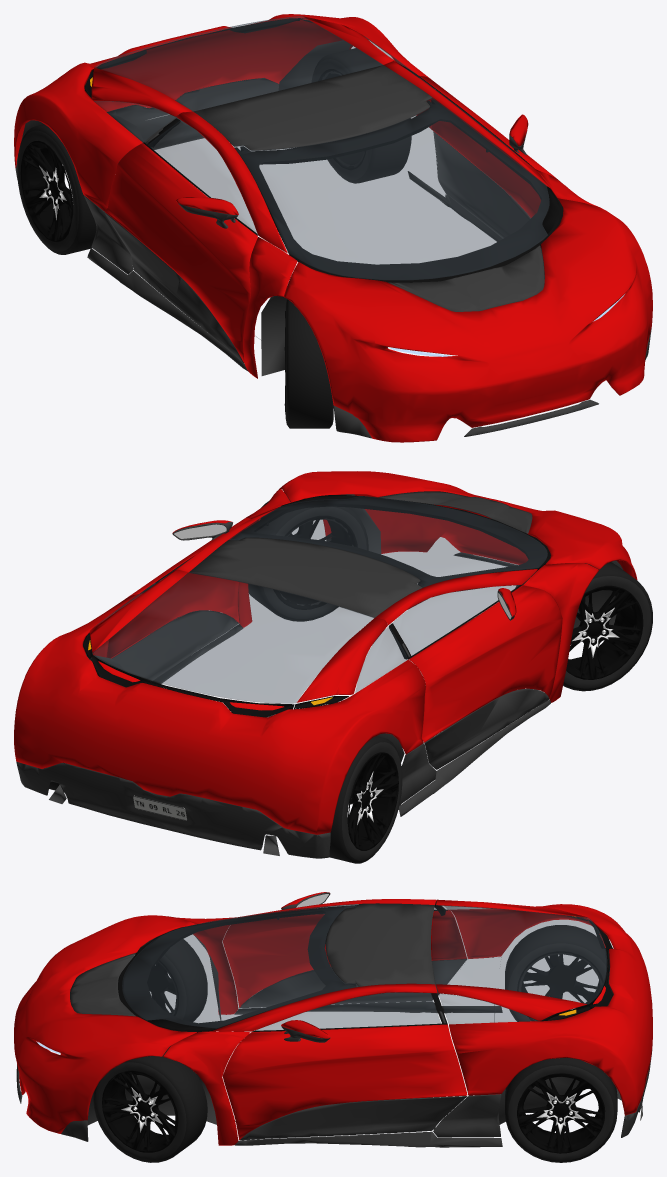
Rendered from car_lod1.glb.
The picture shows the model from 3 angles, top to bottom: view 1: azimuth 30°, elevation 25°; view 2: azimuth 150°, elevation 25°; view 3: azimuth 270°, elevation 25°; orthographic projection. The views are drawn at different scales.
Parts seen in each view (by area): view 1: BodyHood, BodyWindshield, BodyRearPanelsColor1, BodyRearwindow, BodyDoorRColor1, BodyRoofPanel, BodyWindshieldGasket, BodyPanelsColor2, BodyPillars, BodyHoodTopgrill, WheelFrontR, BodyDoorLColor2 (+10 smaller); view 2: BodyRearPanelsColor1, BodyRearwindow, BodyWindshield, BodyPanelsColor2, BodyDoorRColor1, BodyHood, BodyRoofPanel, BodyPillars, BodyWindshieldGasket, WheelFrontRRim, BodyDoorLColor1, BodyDoorLColor2 (+12 smaller); view 3: BodyRearPanelsColor1, BodyWindshield, BodyDoorLColor1, BodyHood, BodyRearwindow, BodyPillars, BodyRoofPanel, BodyPanelsColor2, BodyDoorRColor1, BodyWindshieldGasket, BodyDoorLColor2, WheelFrontL (+14 smaller).
Boxes of the visible parts, x1,y1,x2,y2 form: BodyHood: (283,198,652,442); BodyWindshield: (234,98,549,279); BodyRearPanelsColor1: (14,14,434,210); BodyRearwindow: (94,16,382,111); BodyDoorRColor1: (104,143,257,363); BodyRoofPanel: (193,65,432,150); BodyWindshieldGasket: (234,99,563,282); BodyPanelsColor2: (15,78,651,438); BodyPillars: (177,61,600,378); BodyHoodTopgrill: (388,245,544,311); WheelFrontR: (285,299,333,428); BodyDoorLColor2: (434,132,530,238); BodyRearPanelsColor1: (14,569,425,834); BodyRearwindow: (92,572,373,703); BodyWindshield: (229,496,547,587); BodyPanelsColor2: (16,538,550,858); BodyDoorRColor1: (409,585,562,742); BodyHood: (278,471,637,579); BodyRoofPanel: (189,537,422,617); BodyPillars: (173,489,598,702); BodyWindshieldGasket: (230,496,550,587); WheelFrontRRim: (566,585,643,679); BodyDoorLColor1: (106,517,250,658); BodyDoorLColor2: (112,610,238,680); BodyRearPanelsColor1: (436,899,652,1115); BodyWindshield: (122,904,357,1028); BodyDoorLColor1: (222,1024,467,1139); BodyHood: (14,915,196,1133); BodyRearwindow: (431,905,607,1004); BodyPillars: (163,899,437,1145); BodyRoofPanel: (326,903,434,986); BodyPanelsColor2: (16,957,652,1147); BodyDoorRColor1: (222,910,467,1007); BodyWindshieldGasket: (118,905,357,1032); BodyDoorLColor2: (240,1096,467,1140); WheelFrontL: (93,1050,207,1162).
Bounding box in the file's own units: 2.54 × 1.15 × 4.36.
14 materials, 1 textured.
